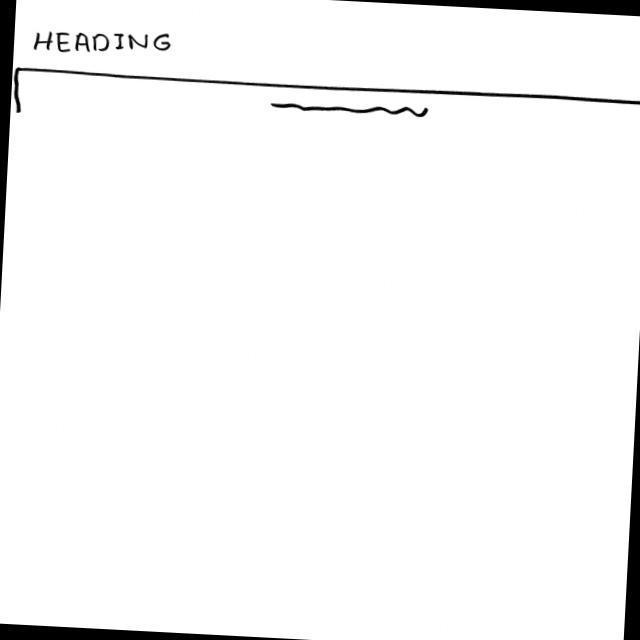label: (31, 23, 179, 63)
text: (269, 101, 432, 122)
